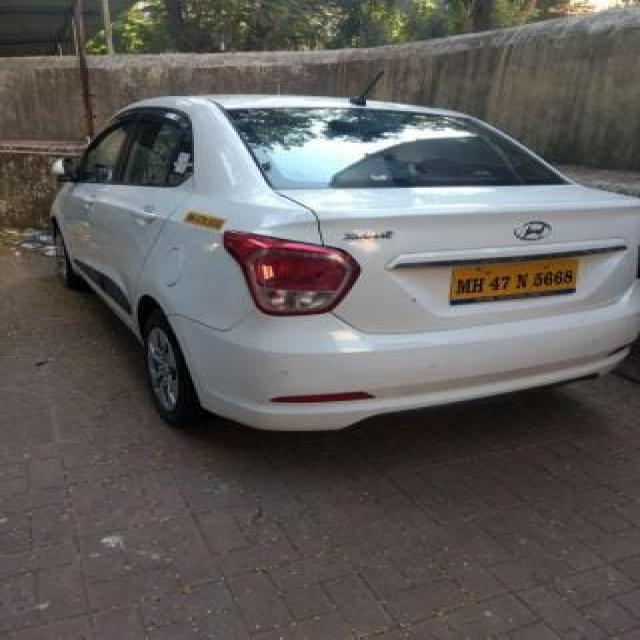Number-Plate: (448, 257, 583, 306)
